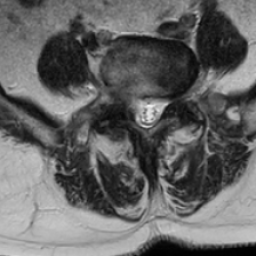CCS_normal: (143, 87, 154, 138)
LFS_stenosis: (166, 83, 179, 114)
LLS_normal: (154, 87, 166, 125)
RFS_severe_stenosis: (119, 81, 132, 117)
RLS_normal: (132, 85, 143, 132)
